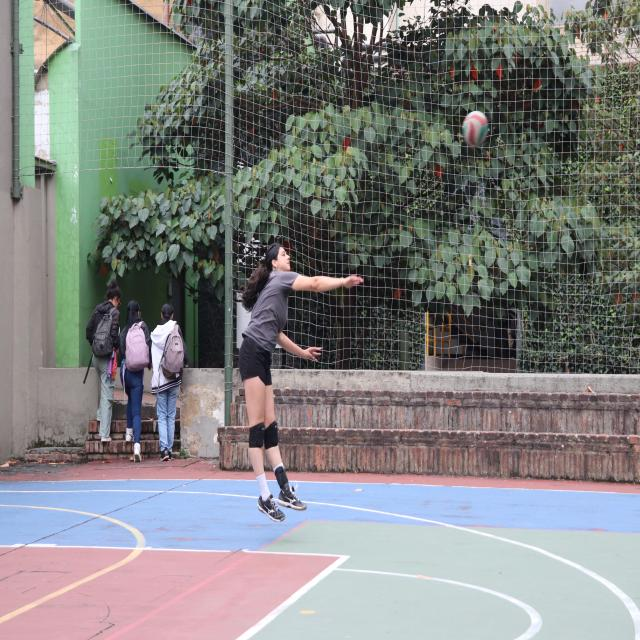volleyball: (462, 110, 488, 148)
